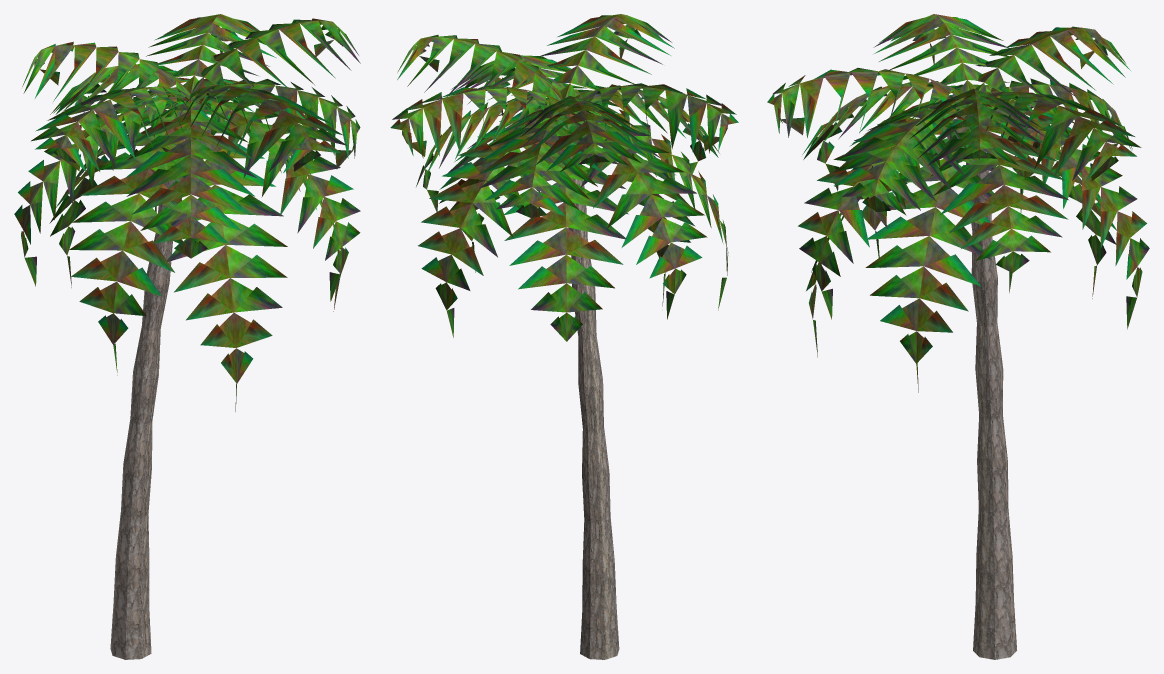
Rendered from palm.glb.
The picture shows the model from 3 angles, left to right: view 1: azimuth 30°, elevation 25°; view 2: azimuth 150°, elevation 25°; view 3: azimuth 270°, elevation 25°; orthographic projection. The views are drawn at different scales.
Visible parts, largest first — view 1: Fronds, Trunk; view 2: Fronds, Trunk; view 3: Fronds, Trunk.
Part boxes in pixels (x1,y1,x2,y2): Fronds: (14, 14, 360, 411); Trunk: (110, 97, 189, 659); Fronds: (390, 14, 738, 341); Trunk: (555, 107, 619, 659); Fronds: (767, 14, 1149, 392); Trunk: (962, 103, 1016, 659).
Size of the model in its own units: 6.81 by 12.36 by 6.93.
Materials: 2 (2 with a texture image).
